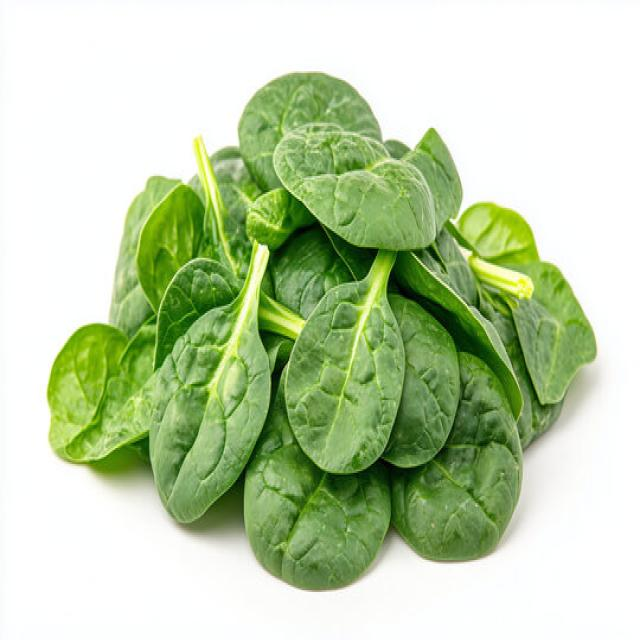Lemon: (467, 252, 533, 300)
Radish: (147, 238, 271, 524), (191, 134, 307, 342), (191, 133, 239, 279)
Spinach: (46, 68, 596, 592)
